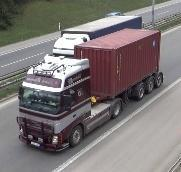truck: (15, 29, 163, 153), (52, 14, 143, 62)
